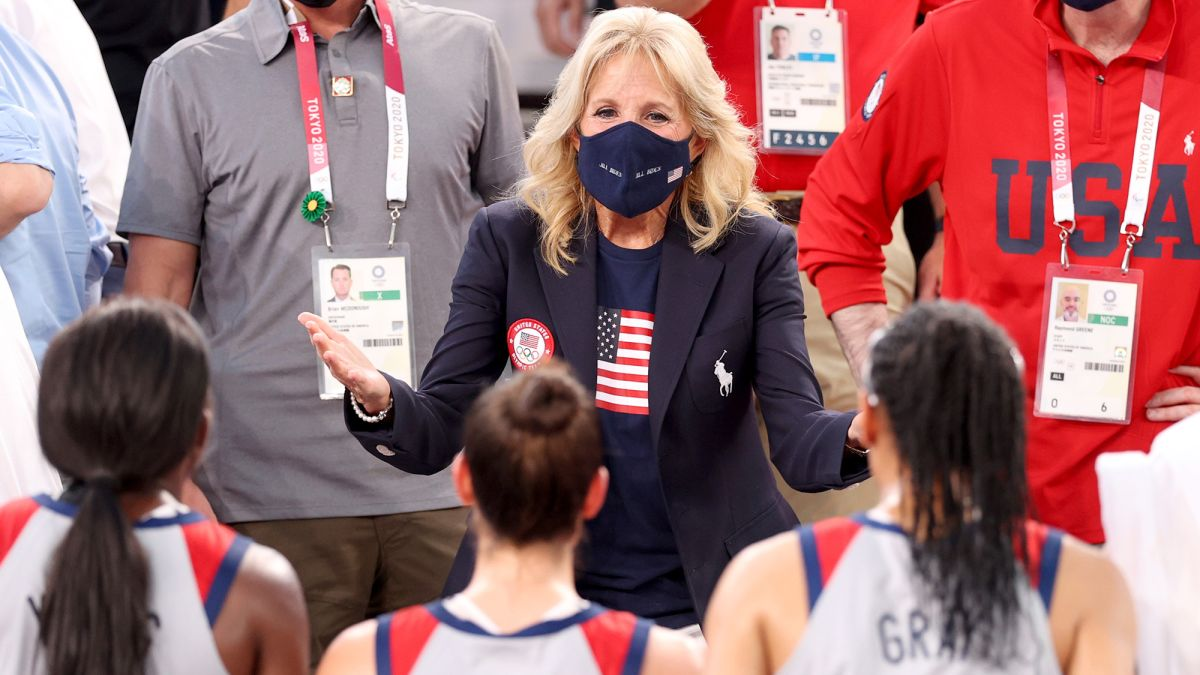with_mask: (580, 95, 683, 195)
